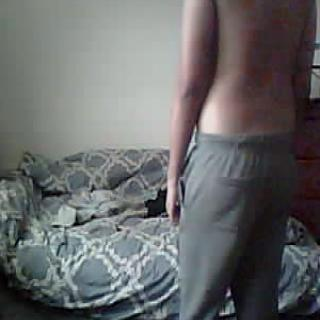Gray Sweatpants: (176, 130, 302, 320)
